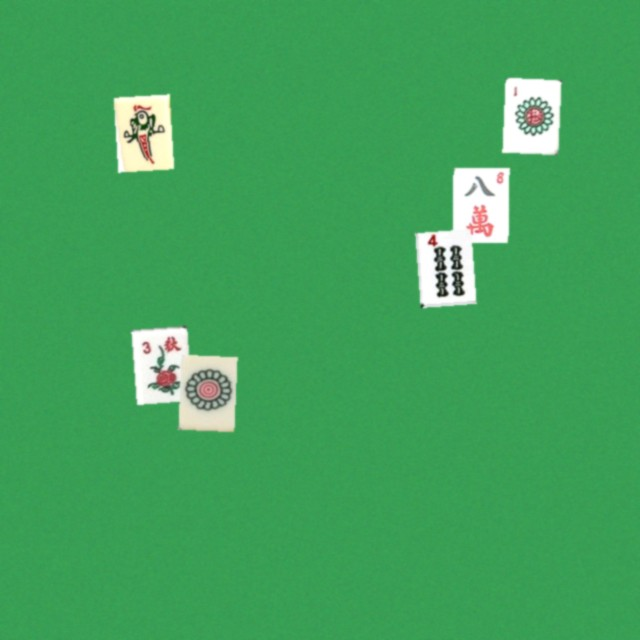tile: (502, 77, 558, 152), (452, 167, 508, 242), (131, 325, 187, 400), (415, 229, 471, 304), (178, 354, 234, 429), (113, 94, 169, 169)
